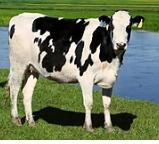cow: (8, 10, 145, 134)
